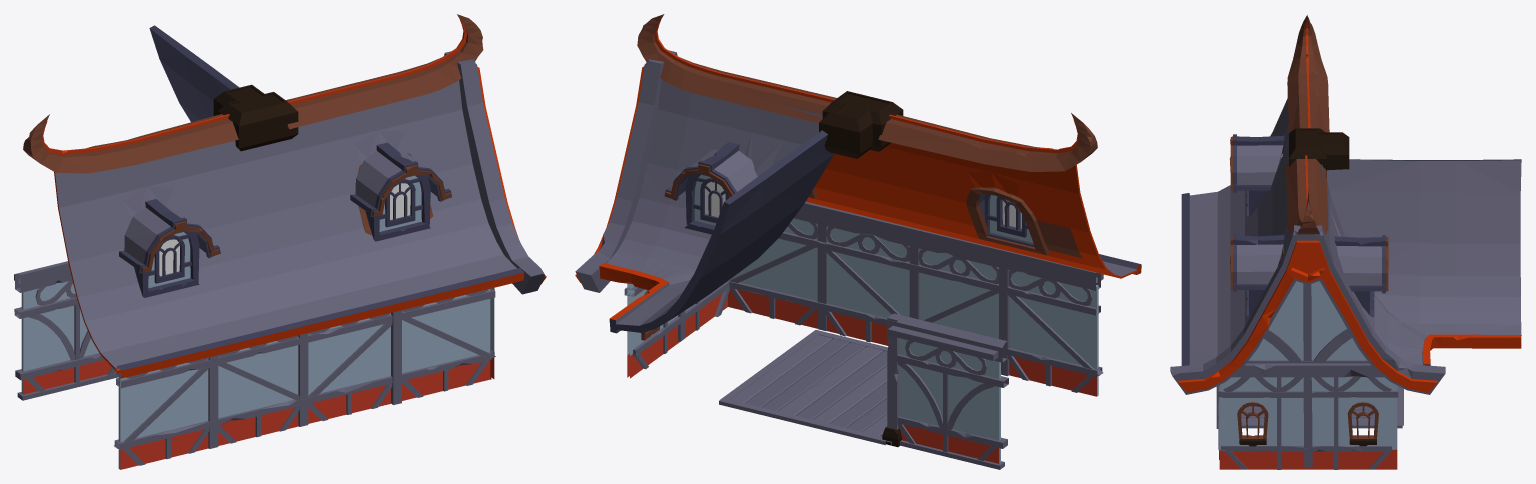
Rendered from House.fbx.
3 renders of one model, left to right at view 1: azimuth 30°, elevation 25°; view 2: azimuth 150°, elevation 25°; view 3: azimuth 270°, elevation 25°, orthographic. The views are drawn at different scales.
Visible parts, largest first — view 1: Silling_Window, Wall, Silling_Pillar, Wall_narrow, BD_AlchemistWS.582, Wall_Siliing, Silling_Curved; view 2: Wall, Silling_Curved, Silling_Window, Wall_narrow, BD_AlchemistWS.001, Silling_Pillar, BD_AlchemistWS.582, Wall_Siliing, Wall_Window, Pillar; view 3: Silling_Curved, Silling_Window, Wall_Window, Wall_Siliing, Silling_Pillar, BD_AlchemistWS.582, BD_AlchemistWS.001.
Boxes of the visible parts, bbox=[...] form: Silling_Window: bbox=[54, 80, 524, 378]; Wall: bbox=[114, 289, 495, 469]; Silling_Pillar: bbox=[213, 14, 483, 151]; Wall_narrow: bbox=[14, 261, 118, 400]; BD_AlchemistWS.582: bbox=[23, 114, 238, 173]; Wall_Siliing: bbox=[444, 51, 546, 294]; Silling_Curved: bbox=[149, 25, 239, 122]; Wall: bbox=[727, 202, 1103, 396]; Silling_Curved: bbox=[599, 79, 834, 333]; Silling_Window: bbox=[806, 143, 1141, 278]; Wall_narrow: bbox=[888, 313, 1008, 469]; BD_AlchemistWS.001: bbox=[719, 330, 891, 445]; Silling_Pillar: bbox=[637, 14, 903, 158]; BD_AlchemistWS.582: bbox=[878, 113, 1097, 171]; Wall_Siliing: bbox=[575, 50, 677, 292]; Wall_Window: bbox=[624, 281, 729, 378]; Pillar: bbox=[882, 314, 901, 447]; Silling_Curved: bbox=[1321, 159, 1521, 365]; Silling_Window: bbox=[1181, 98, 1290, 365]; Wall_Window: bbox=[1219, 360, 1398, 469]; Wall_Siliing: bbox=[1170, 225, 1445, 394]; Silling_Pillar: bbox=[1285, 128, 1349, 234]; BD_AlchemistWS.582: bbox=[1287, 15, 1329, 132]; BD_AlchemistWS.001: bbox=[1241, 385, 1403, 428].
Bounding box in the file's own units: 14.6 × 10.04 × 11.13.
